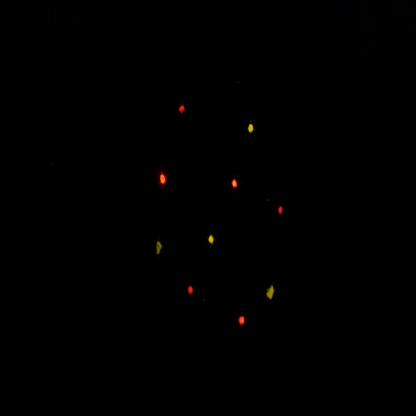PE: (205, 227, 222, 254), (246, 115, 260, 141)
PET: (173, 95, 192, 137), (274, 196, 288, 228), (180, 281, 200, 303)
PP: (265, 275, 281, 308), (152, 237, 169, 267)
PVC: (155, 164, 173, 197), (236, 310, 249, 333), (230, 176, 241, 195)
